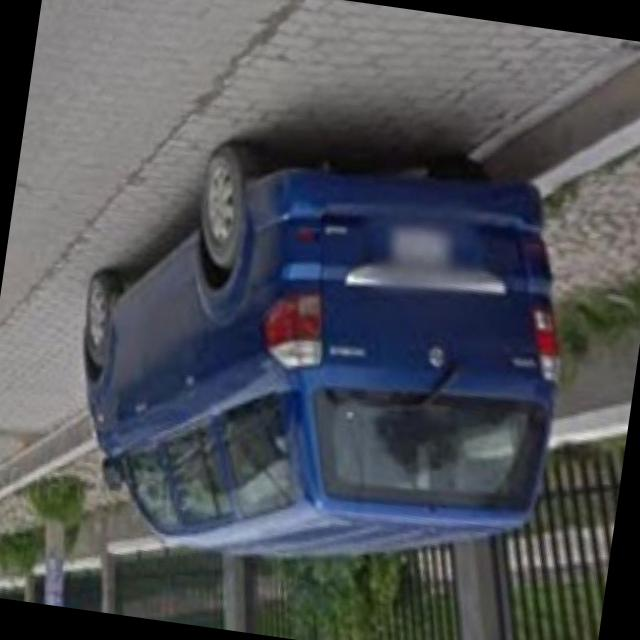car: (47, 85, 595, 622)
